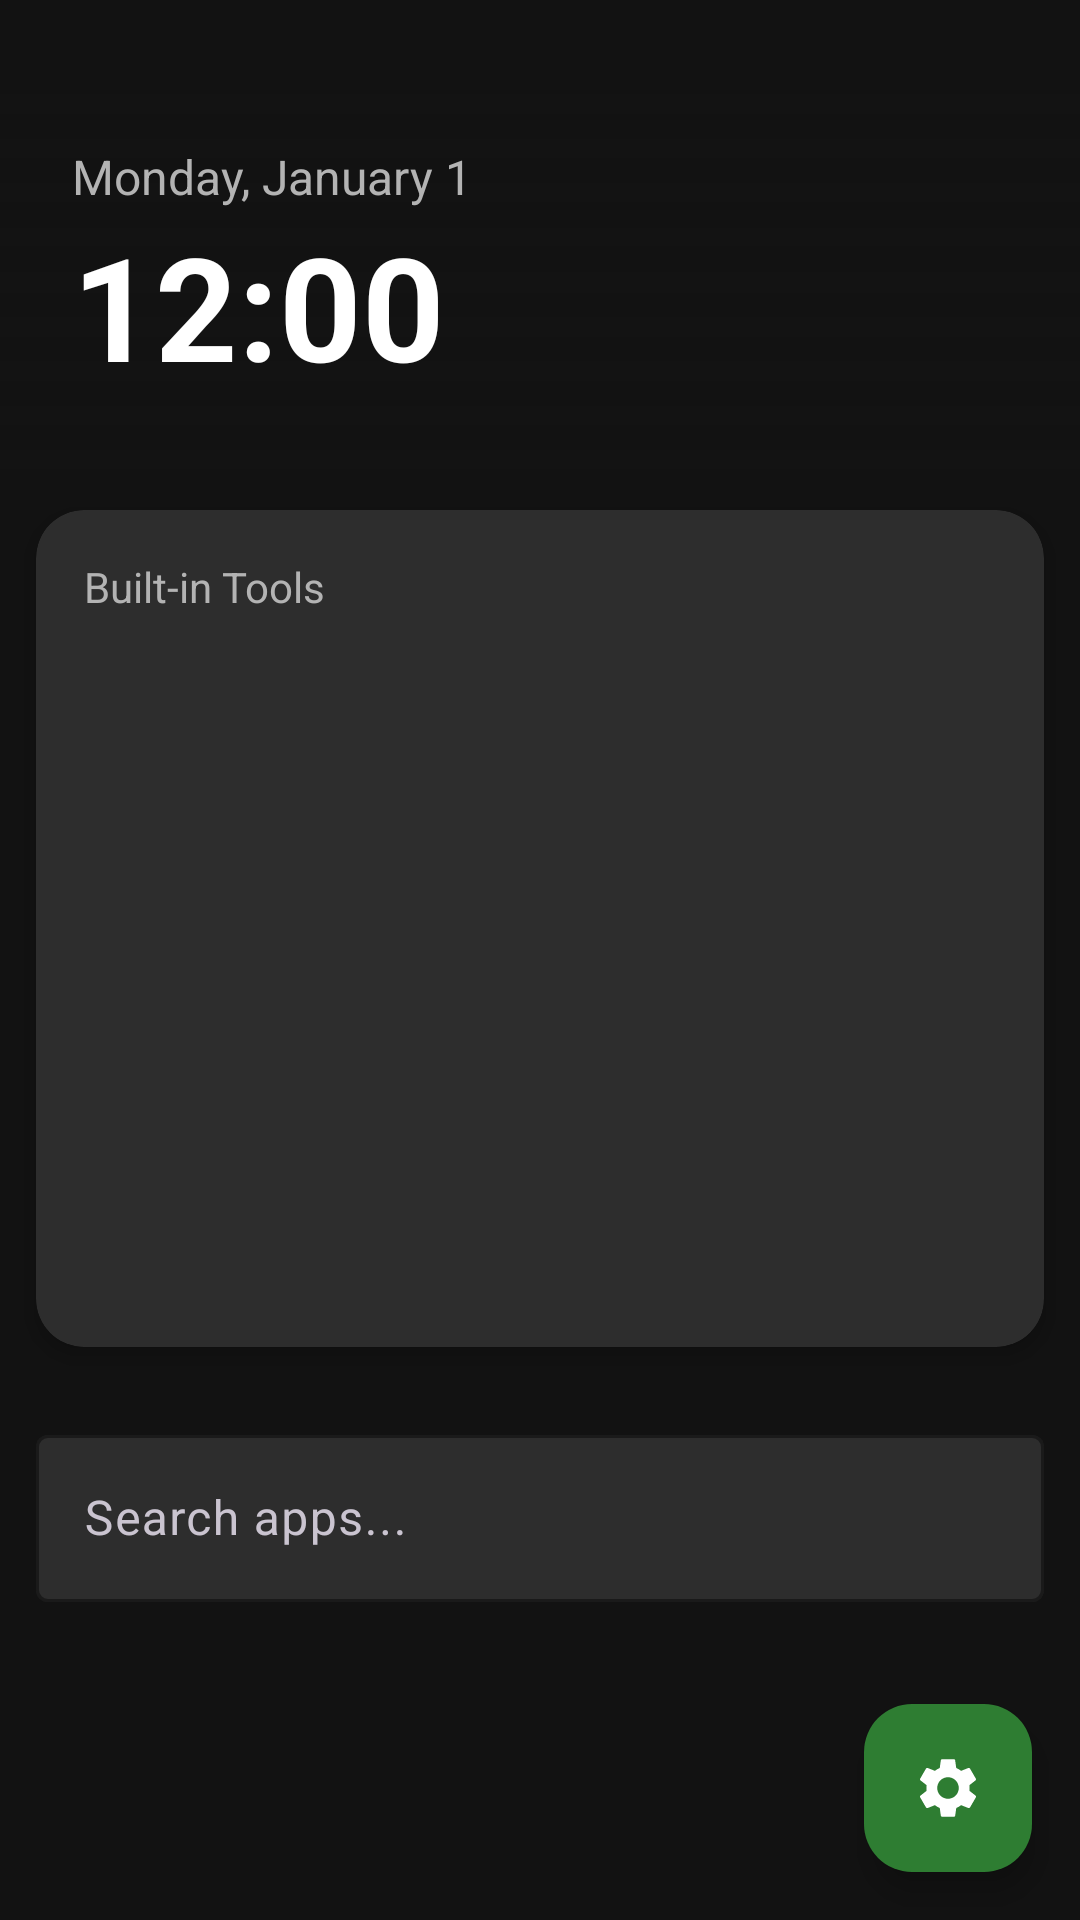

Where to tap for icons on this 1080w x 1920h app screen, as [x,y]:
Settings: [948,1788]
